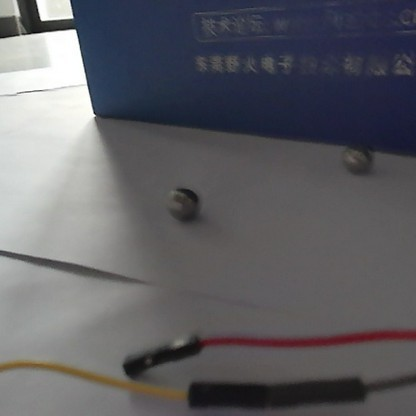ironball: (163, 185, 201, 223), (341, 144, 374, 176)
